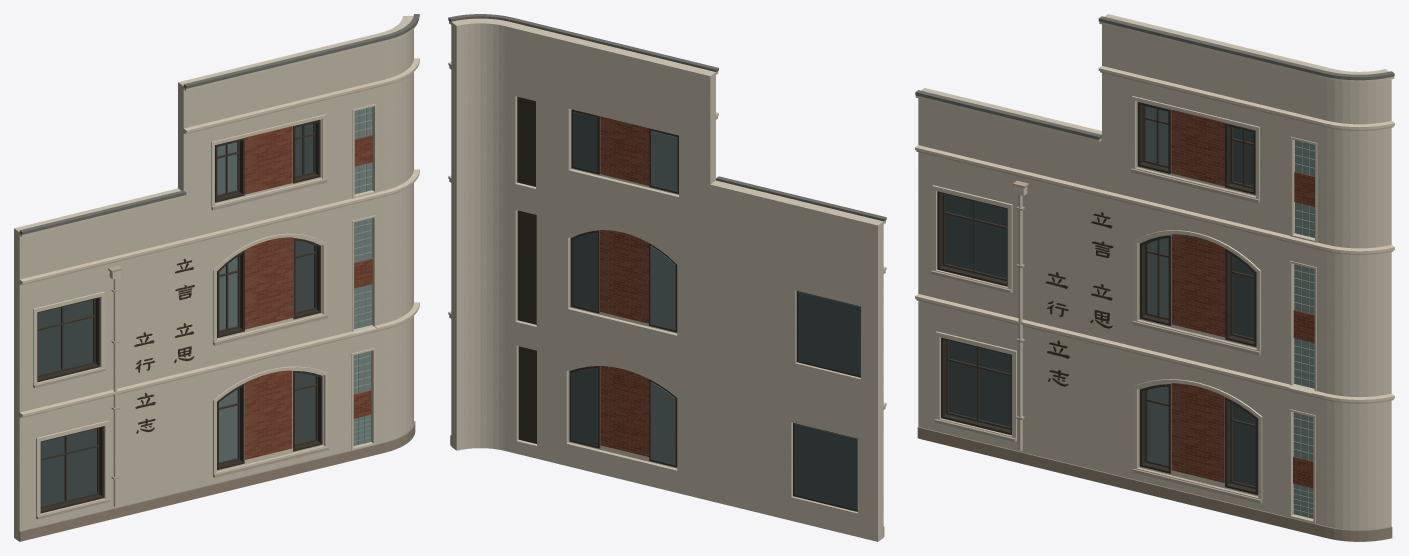
The model's file is lod-source.glb.
The picture shows the model from 3 angles, left to right: view 1: azimuth 30°, elevation 25°; view 2: azimuth 150°, elevation 25°; view 3: azimuth 330°, elevation 25°; orthographic projection. The views are drawn at different scales.
Parts seen in each view (by area): view 1: 建国西路629号住宅花园立面; view 2: 建国西路629号住宅花园立面; view 3: 建国西路629号住宅花园立面.
Boxes of the visible parts, box(x1,y1,x2,y2) form: 建国西路629号住宅花园立面: box(14, 14, 419, 541); 建国西路629号住宅花园立面: box(448, 14, 886, 541); 建国西路629号住宅花园立面: box(915, 14, 1394, 541).
Size of the model in its own units: 10.6 by 10.24 by 0.9331.
12 materials, 2 textured.
